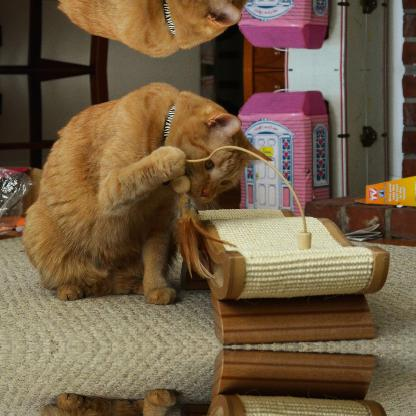Cat: (18, 79, 274, 305), (18, 0, 274, 60)
